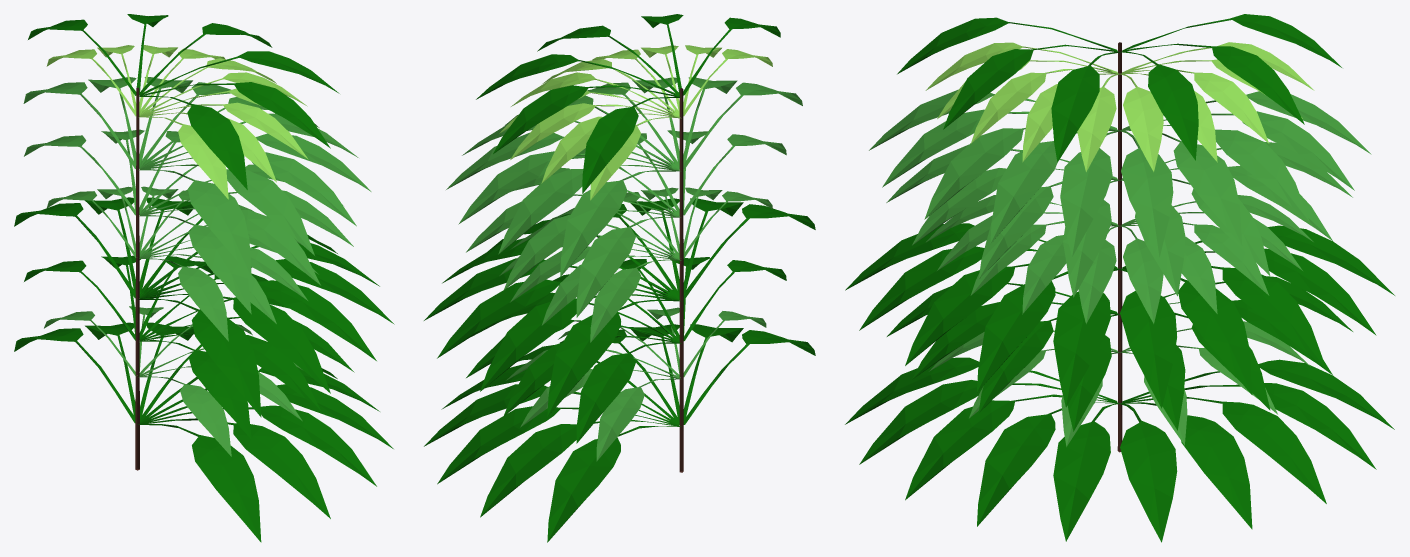
The model's file is small_plant_half.fbx.
The picture shows the model from 3 angles, left to right: view 1: azimuth 30°, elevation 25°; view 2: azimuth 150°, elevation 25°; view 3: azimuth 270°, elevation 25°; orthographic projection. The views are drawn at different scales.
Parts seen in each view (by area): view 1: Circle.069; view 2: Circle.069; view 3: Circle.069.
Boxes of the visible parts, x1,y1,x2,y2 form: Circle.069: [14, 14, 394, 542]; Circle.069: [424, 14, 815, 542]; Circle.069: [845, 14, 1394, 542].
Size of the model in its own units: 31.23 by 48.89 by 56.67.
